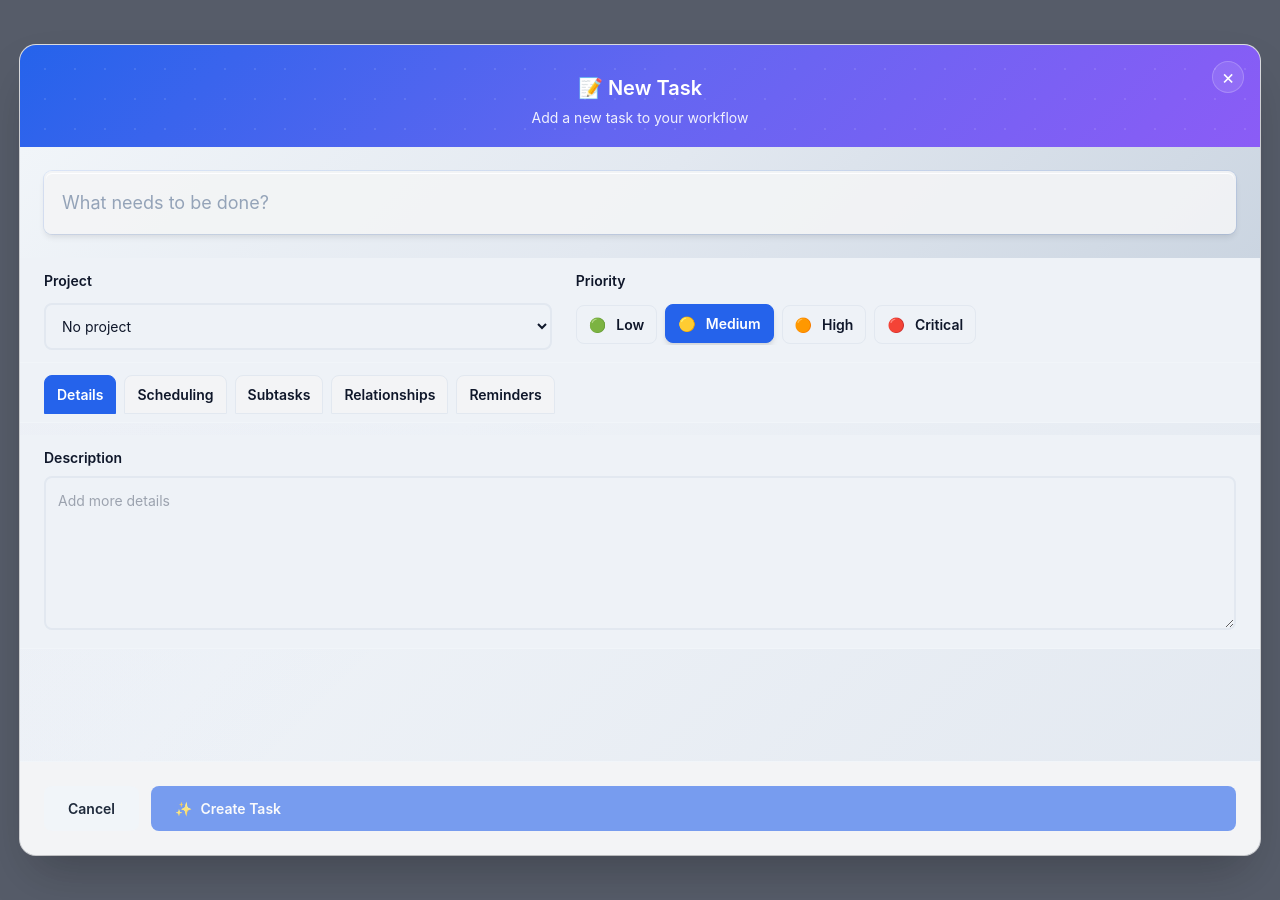
Test: TaskForm - submit wiring and fields › renders key fields in create mode (title, description, project, dates, priority, reminders)
Expected: the field with placeholder "What needs to be done?" is shown, x1=44 y1=171 x2=1236 y2=234
Click the button "Details".
click(80, 394)  # box x1=44 y1=375 x2=116 y2=414
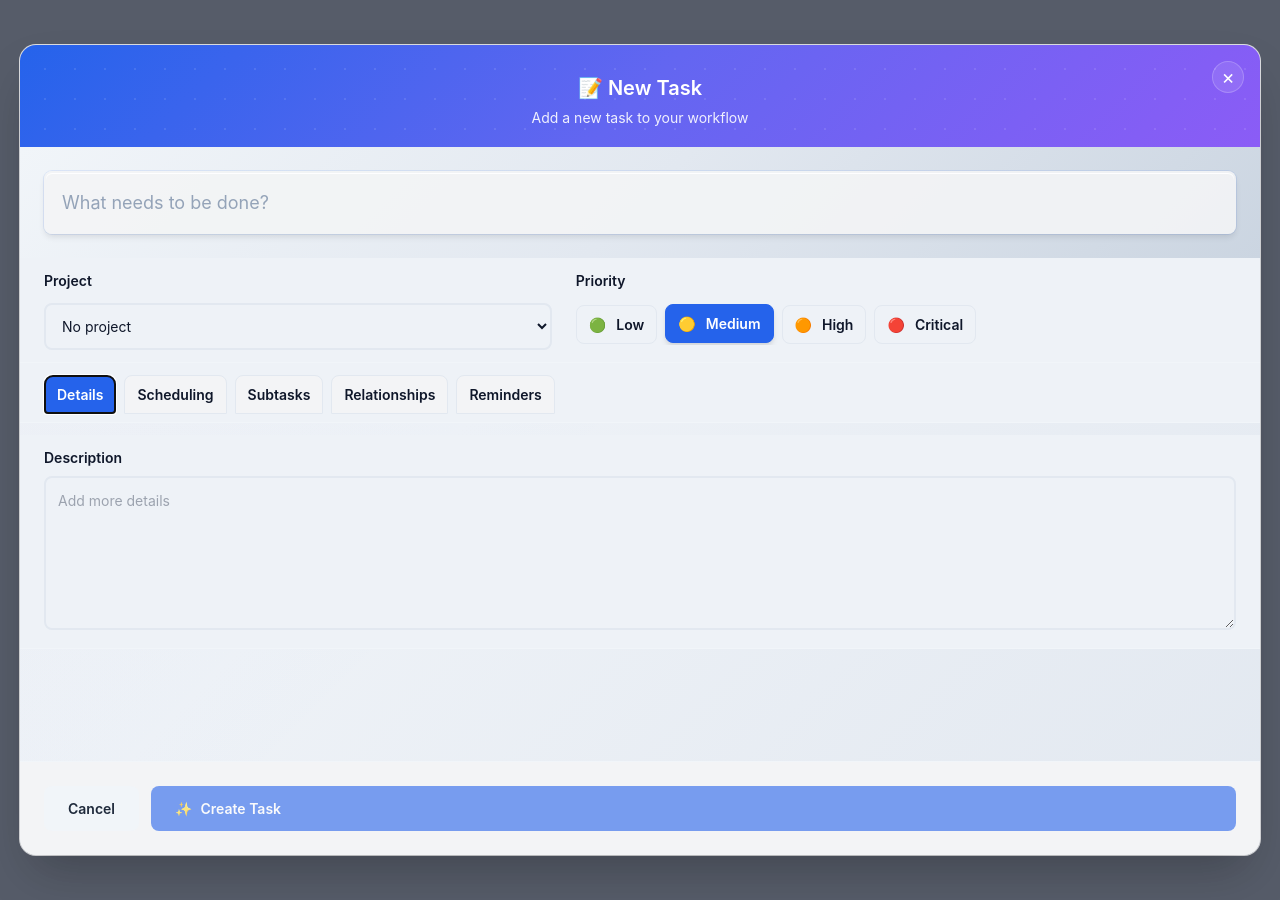
Expected: the text box labelled "Description" is shown, x1=44 y1=476 x2=1236 y2=630
Expected: the dropdown labelled "Project" is shown, x1=44 y1=303 x2=552 y2=350
Start/Due datetime inputs on Scheduling tab
Click the button "Scheduling".
click(176, 394)  # box x1=124 y1=375 x2=227 y2=414
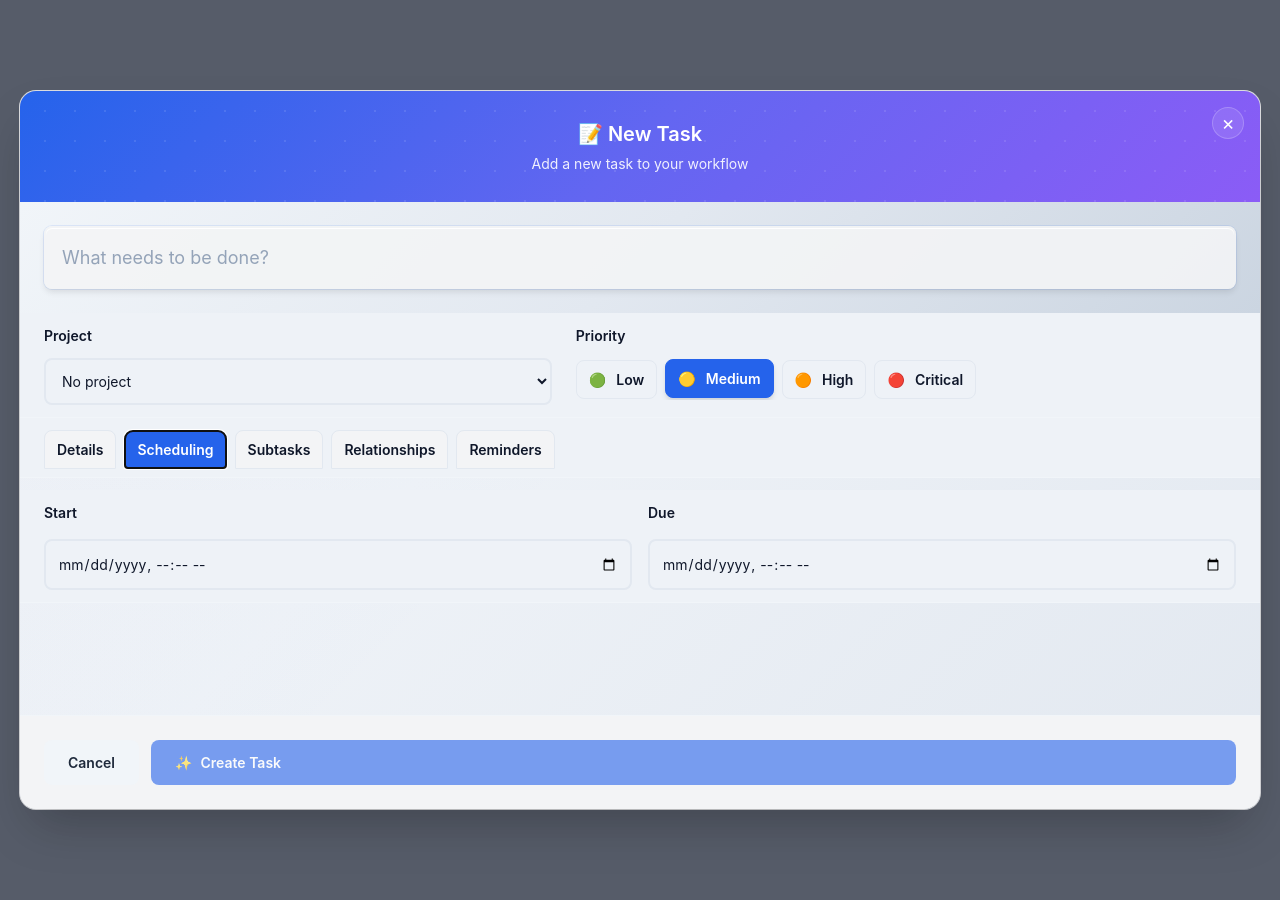
Expected: the button titled "Low" is shown, x1=576 y1=360 x2=657 y2=398
Now the field labelled "Start" is shown, box x1=44 y1=539 x2=632 y2=590
Now the field labelled "Due" is shown, box x1=648 y1=539 x2=1236 y2=590
Reminders toggle and time on Reminders tab
Click the button "Reminders".
click(506, 450)  # box x1=456 y1=430 x2=555 y2=469
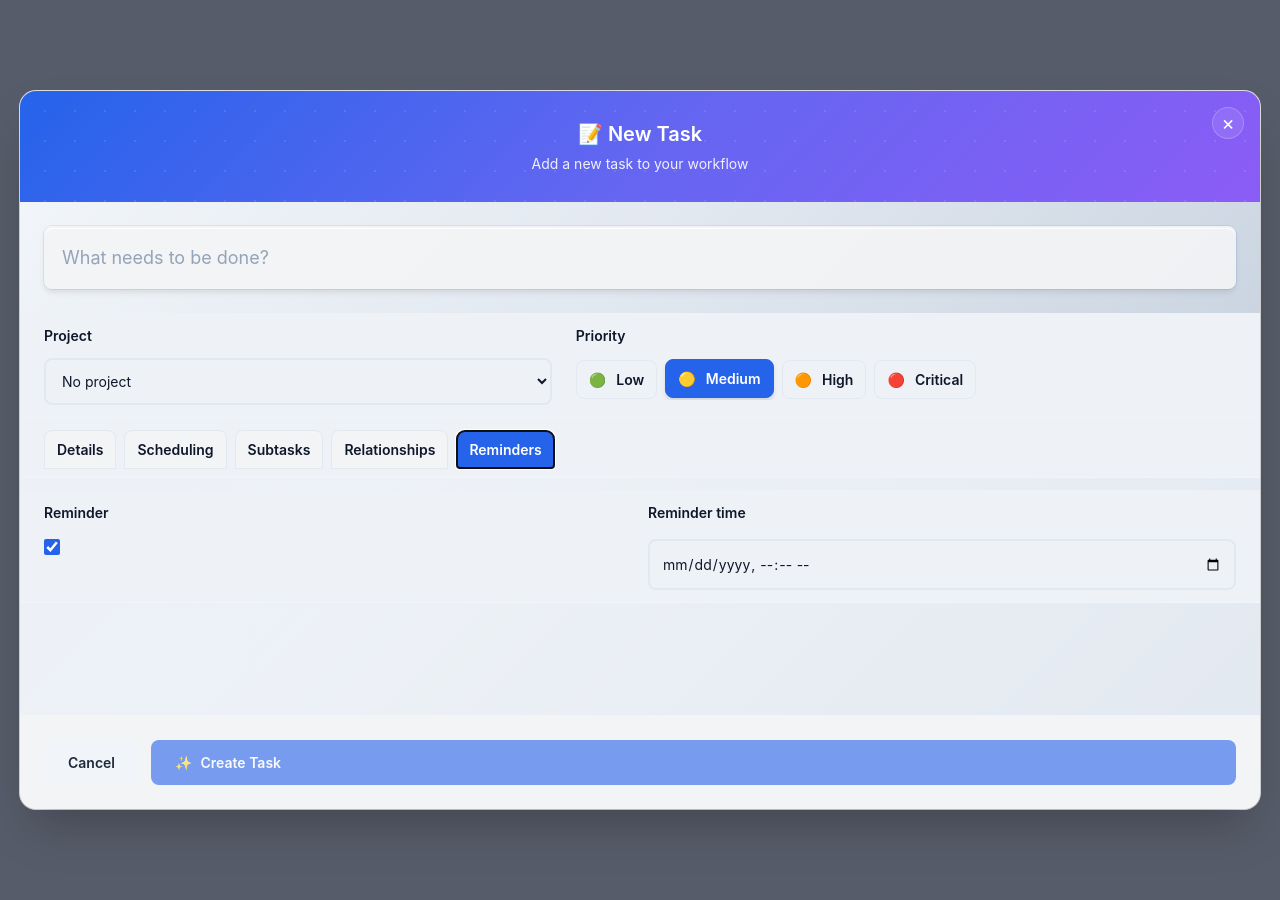
Expected: the field labelled "Reminder time" is shown, x1=648 y1=539 x2=1236 y2=590
Now the checkbox labelled "Reminder" is shown, box x1=44 y1=539 x2=60 y2=555
